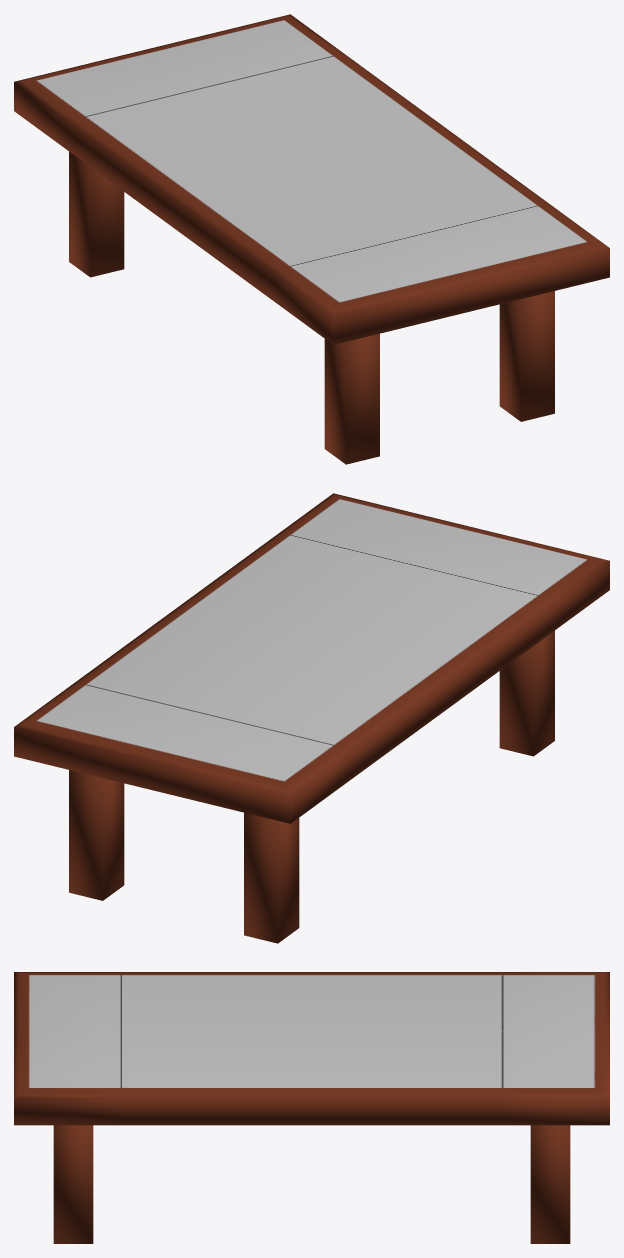
Rendered from nes_table.glb.
The picture shows the model from 3 angles, top to bottom: view 1: azimuth 30°, elevation 25°; view 2: azimuth 150°, elevation 25°; view 3: azimuth 270°, elevation 25°; orthographic projection. The views are drawn at different scales.
Visible parts, largest first — view 1: nesTable; view 2: nesTable; view 3: nesTable.
Part boxes in pixels (bbox=[...]): nesTable: bbox=[14, 14, 609, 464]; nesTable: bbox=[14, 493, 609, 943]; nesTable: bbox=[14, 972, 609, 1243].
Size of what is drawn, in the model's own units: 1.5 by 0.9155 by 3.
1 material, 1 textured.
